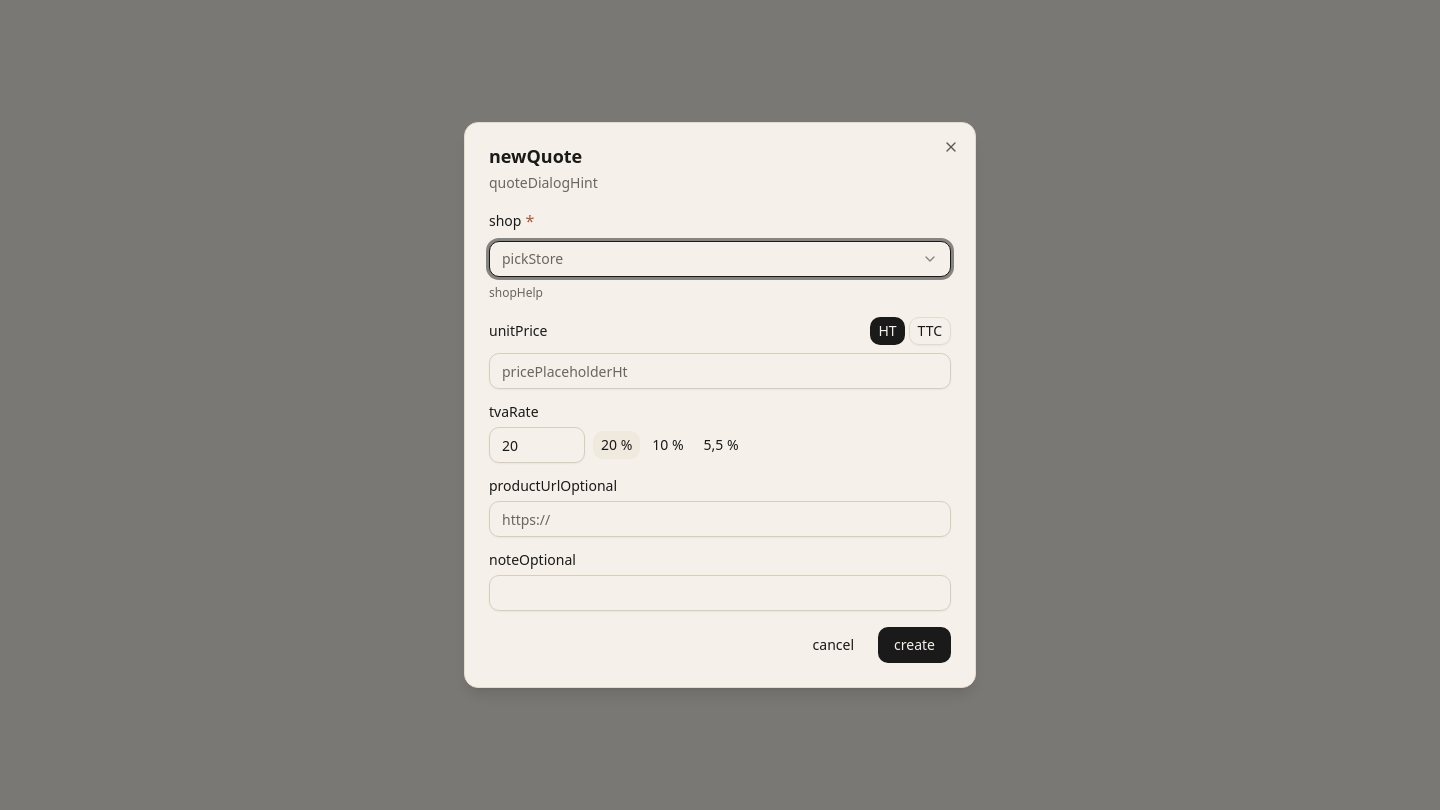
Scenario: QuoteFormDialog HT/TTC handling › reports a missing price rather than a missing shop
Click the button with test id "store-select-trigger" at (533, 258), box [489,241,951,277]
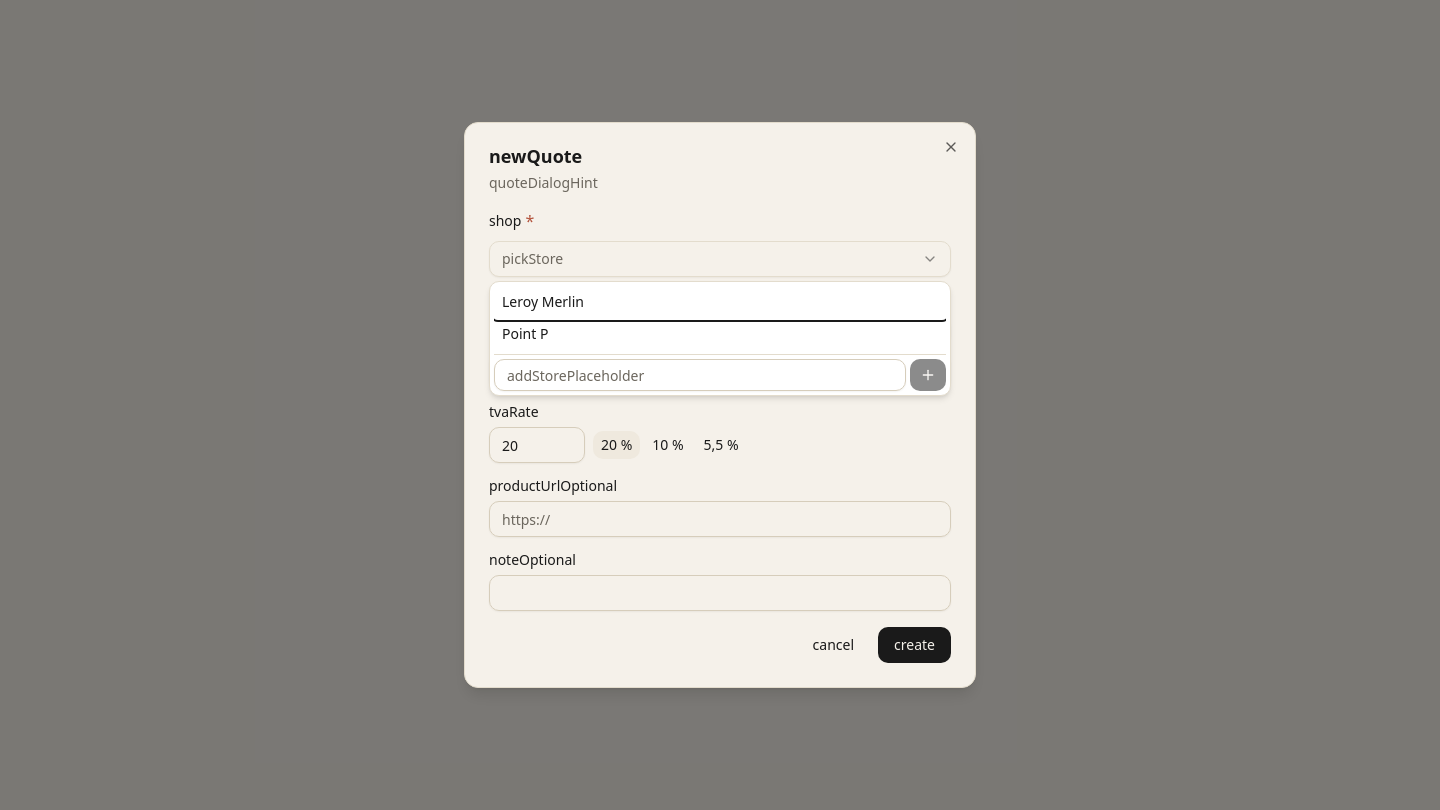
Click the button "Point P" at (525, 334), box [494,318,946,350]
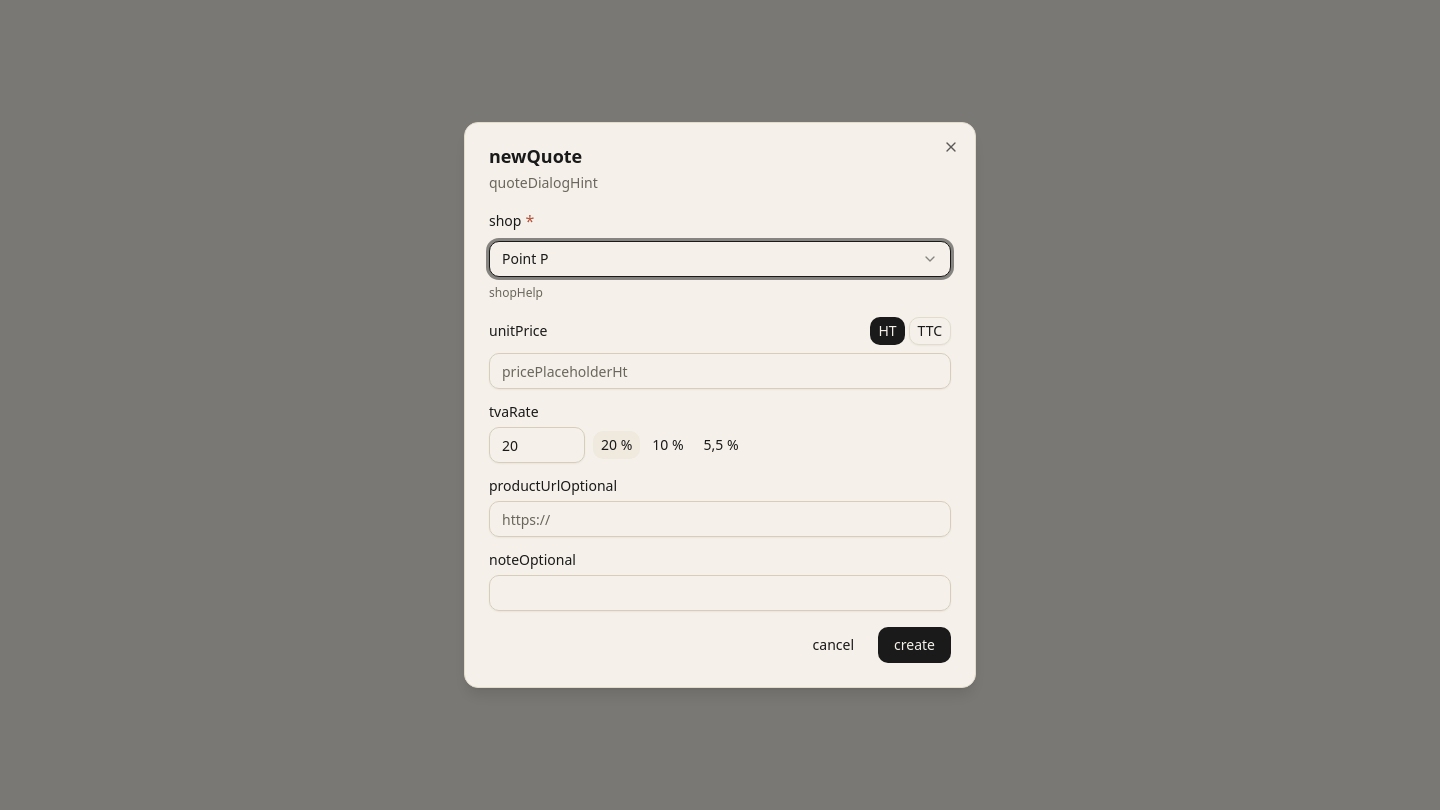
Click the button "create" at (915, 645), box [878,627,951,663]
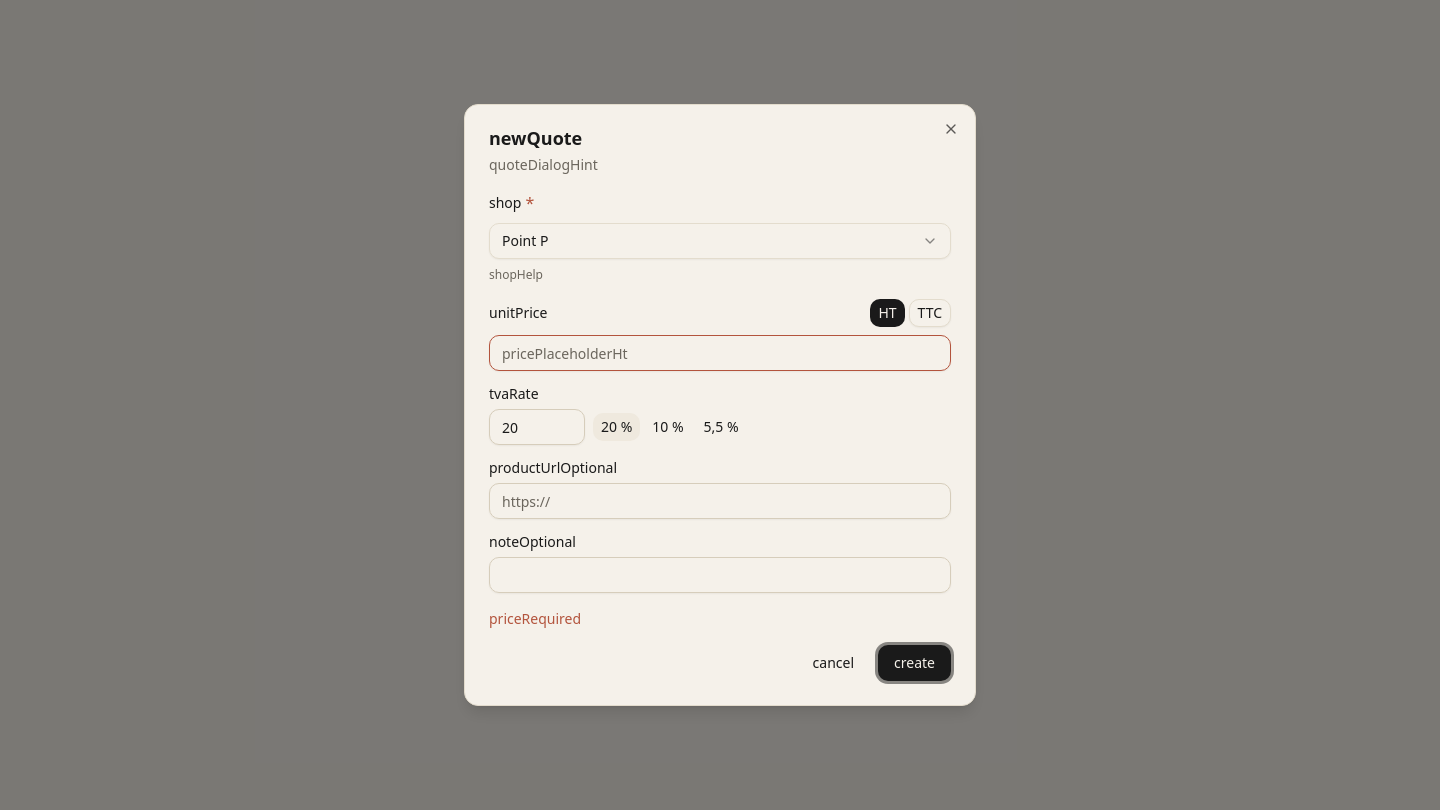
Expected: the message with test id "quote-form-error" reads "priceRequired", [489,609,581,628]
